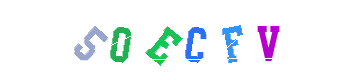0: (101, 0, 181, 80)
5: (78, 0, 158, 80)
C: (140, 0, 220, 80)
E: (103, 0, 183, 80)
F: (172, 0, 252, 80)
V: (228, 0, 308, 80)
